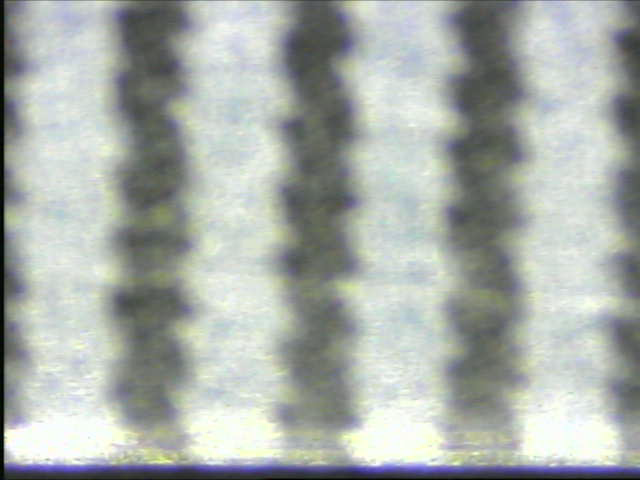line: (436, 1, 534, 456), (103, 1, 197, 461), (271, 1, 362, 455)
